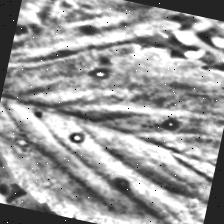Leaf Spot: (0, 15, 224, 224), (2, 0, 184, 124)
